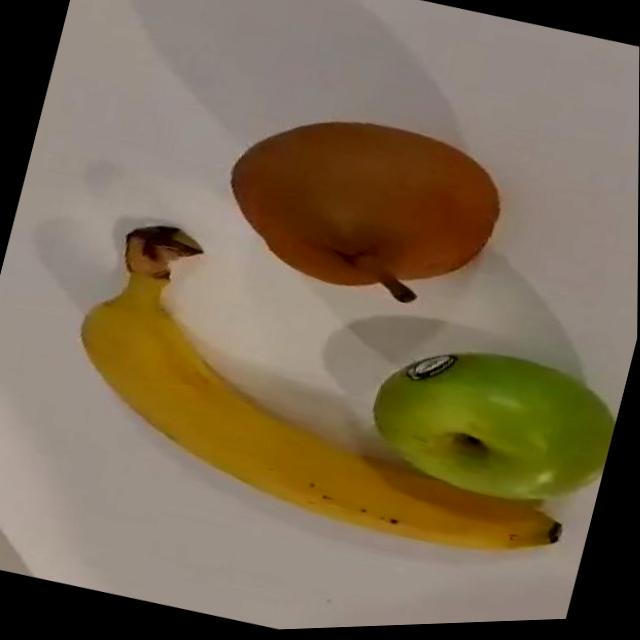Apple: (353, 322, 628, 529)
Banana: (41, 199, 621, 595)
